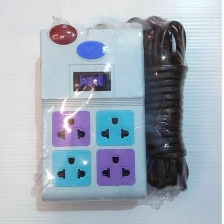three_eye_plug: (32, 18, 153, 206)
